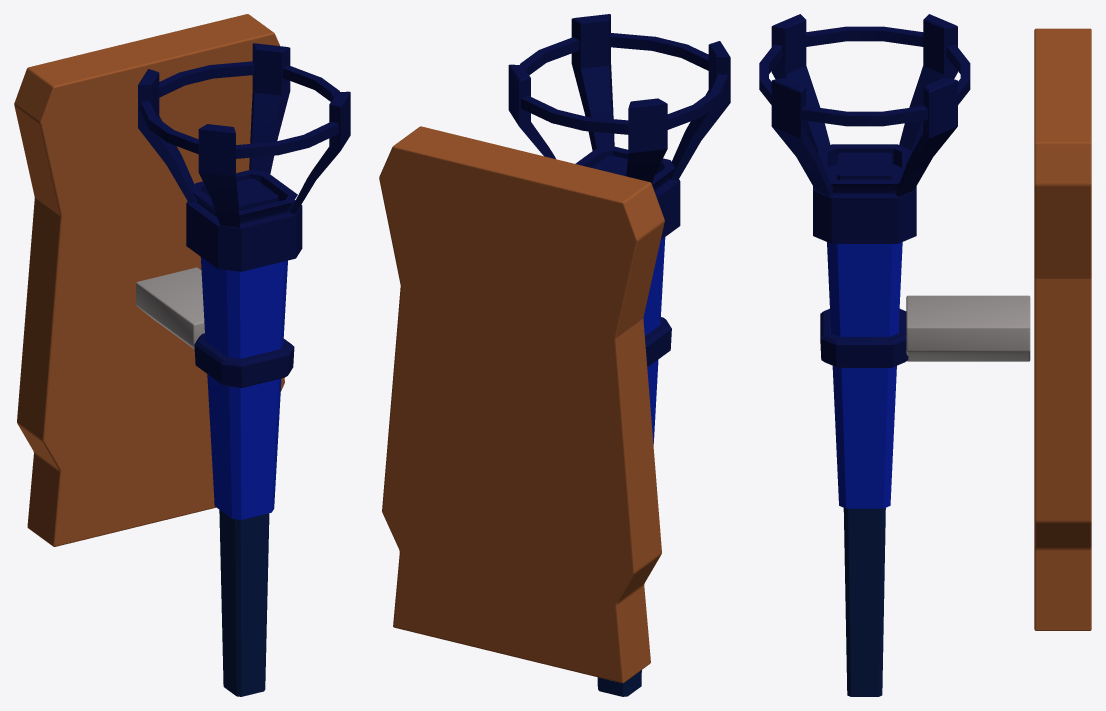
The model's file is SM_Torch.fbx.
3 renders of one model, left to right at view 1: azimuth 30°, elevation 25°; view 2: azimuth 150°, elevation 25°; view 3: azimuth 270°, elevation 25°, orthographic. The views are drawn at different scales.
Parts seen in each view (by area): view 1: WallbaseTorch, SM_Torch_Low; view 2: WallbaseTorch, SM_Torch_Low; view 3: SM_Torch_Low, WallbaseTorch.
Part boxes in pixels (box(x1,y1,x2,y2)): WallbaseTorch: box(14, 14, 284, 546); SM_Torch_Low: box(138, 43, 350, 696); WallbaseTorch: box(379, 126, 664, 683); SM_Torch_Low: box(508, 14, 730, 696); SM_Torch_Low: box(759, 14, 970, 696); WallbaseTorch: box(906, 28, 1091, 630).
Bounding box in the file's own units: 85.77 × 199 × 94.09.
